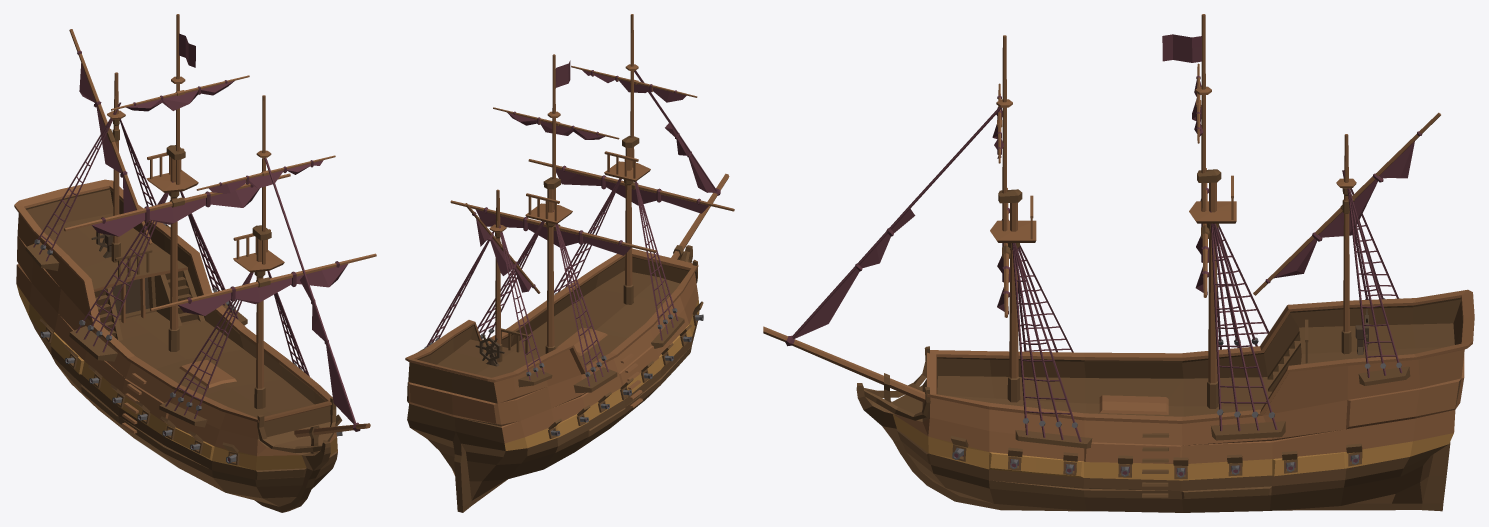
The model's file is pirates-ship-colonial-small.glb.
3 renders of one model, left to right at view 1: azimuth 30°, elevation 25°; view 2: azimuth 150°, elevation 25°; view 3: azimuth 270°, elevation 25°, orthographic. The views are drawn at different scales.
Visible parts, largest first — view 1: ship-colonial-small; view 2: ship-colonial-small; view 3: ship-colonial-small.
Part boxes in pixels (x1,y1,x2,y2): ship-colonial-small: (14,14,376,512); ship-colonial-small: (405,14,734,512); ship-colonial-small: (763,14,1474,512).
Size of the model in its own units: 12.22 by 22.17 by 28.88.
